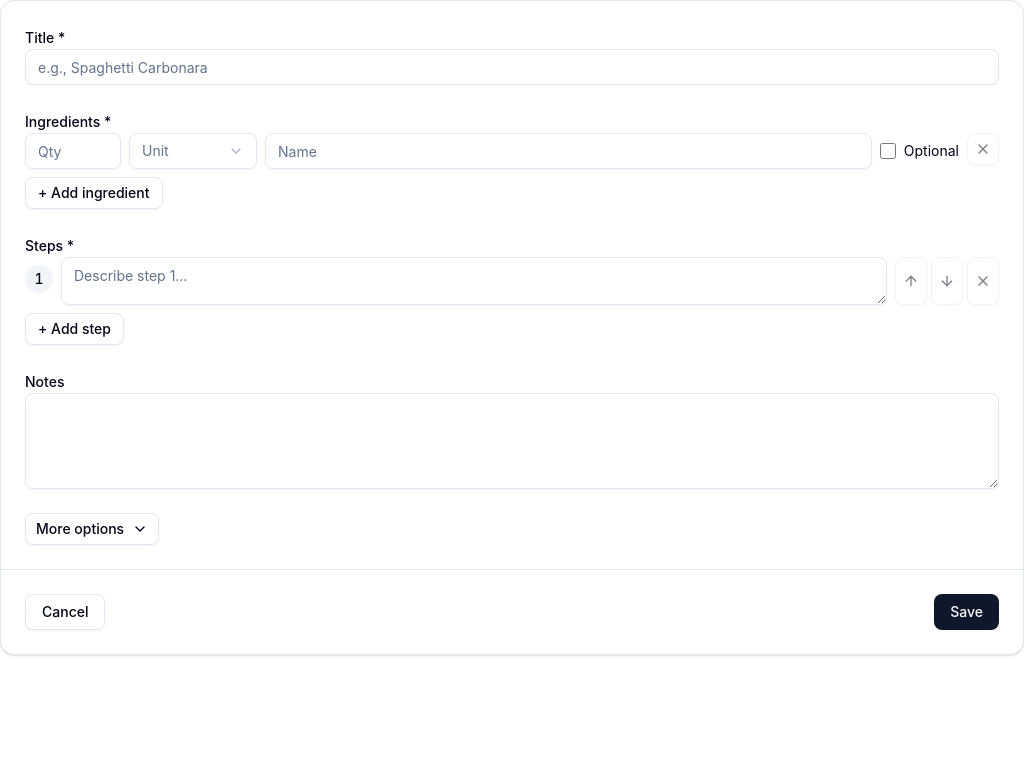
Test case: RecipeForm › adds a step when crypto.randomUUID is unavailable in a non-secure context
The width and height of the screenshot is (1024, 768).
Click the button "+ Add step" at (74, 329), box [25, 313, 124, 345]
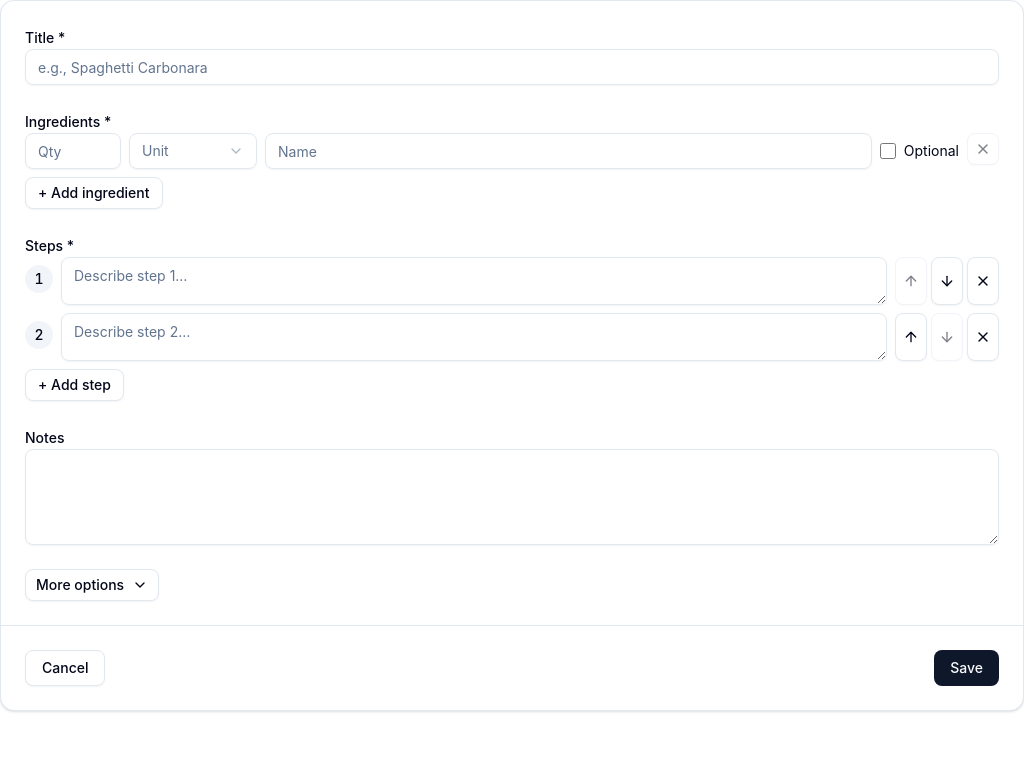
Check: the text box named "text for step 2" is shown, box [61, 313, 887, 361]
